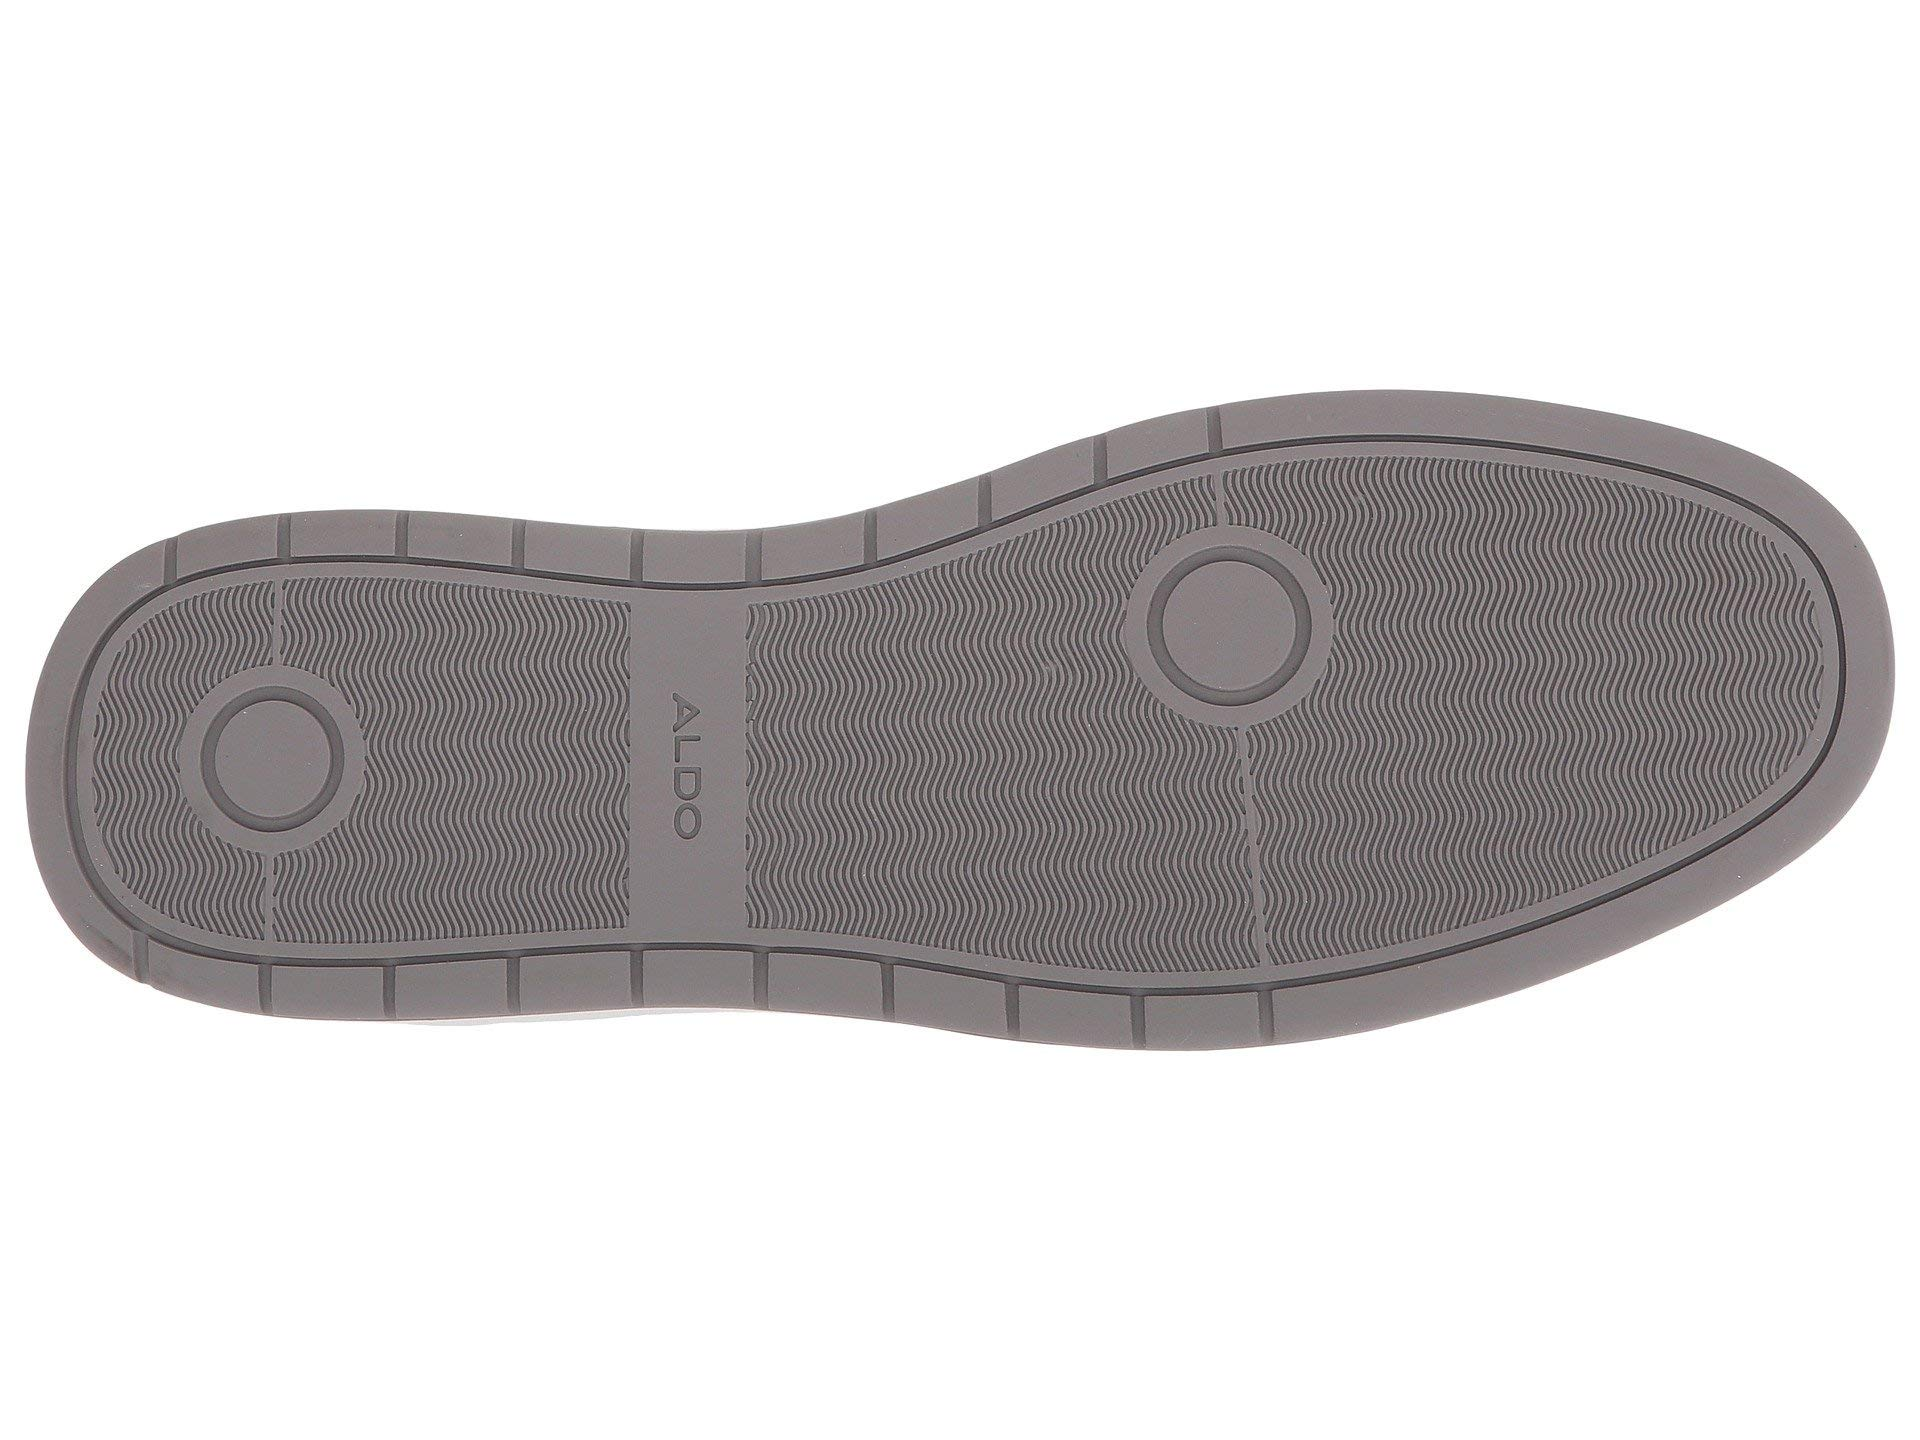chevron: (762, 557, 1033, 948), (1078, 475, 1368, 791), (1105, 502, 1342, 750)
circle: (1078, 475, 1368, 791), (1105, 502, 1342, 750)
line: (762, 557, 1033, 948)
text: (644, 684, 717, 839)
